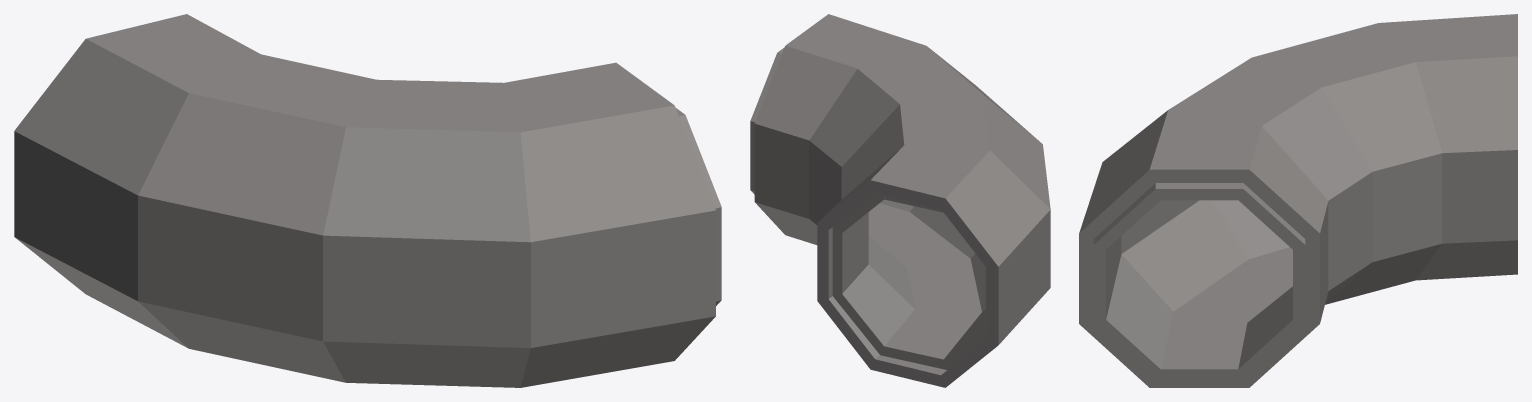
The model's file is SM_Prop_Pipe_Concrete_Huge_Corner_01.fbx.
3 views of the same model, side by side, from view 1: azimuth 30°, elevation 25°; view 2: azimuth 150°, elevation 25°; view 3: azimuth 270°, elevation 25° (orthographic). The views are drawn at different scales.
Visible parts, largest first — view 1: SM_Prop_Pipe_Concrete_Huge_Corner_01; view 2: SM_Prop_Pipe_Concrete_Huge_Corner_01; view 3: SM_Prop_Pipe_Concrete_Huge_Corner_01.
Boxes of the visible parts, x1,y1,x2,y2 form: SM_Prop_Pipe_Concrete_Huge_Corner_01: (14, 14, 721, 387); SM_Prop_Pipe_Concrete_Huge_Corner_01: (750, 14, 1050, 387); SM_Prop_Pipe_Concrete_Huge_Corner_01: (1079, 14, 1517, 387).
Size of the model in its own units: 427 by 227 by 414.
